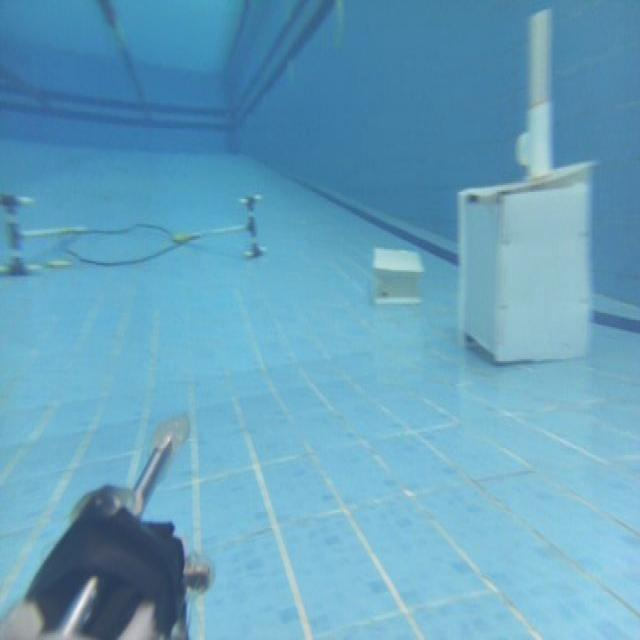Cube: (455, 162, 595, 364)
Cuboid: (370, 243, 424, 306)
